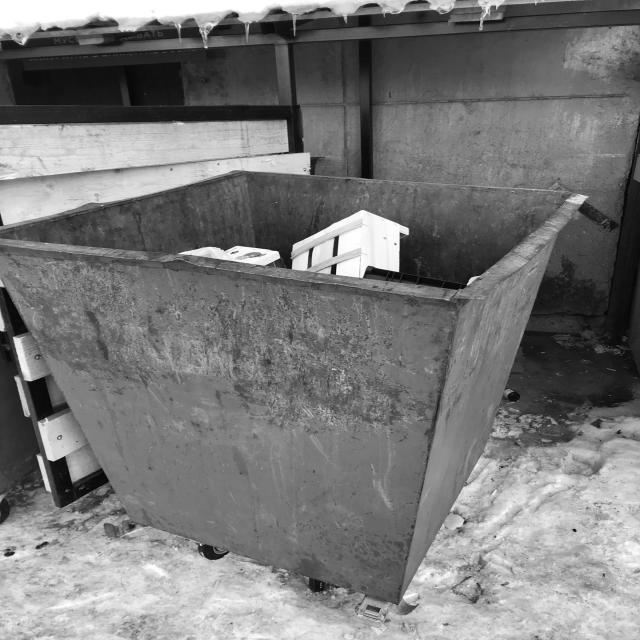bin: (0, 147, 608, 627)
plastic: (160, 204, 520, 296)
